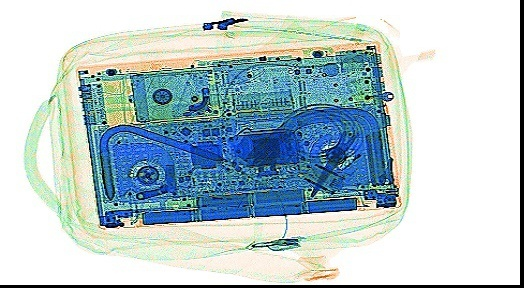lighter: (342, 129, 377, 176)
scissors: (305, 89, 383, 197)
